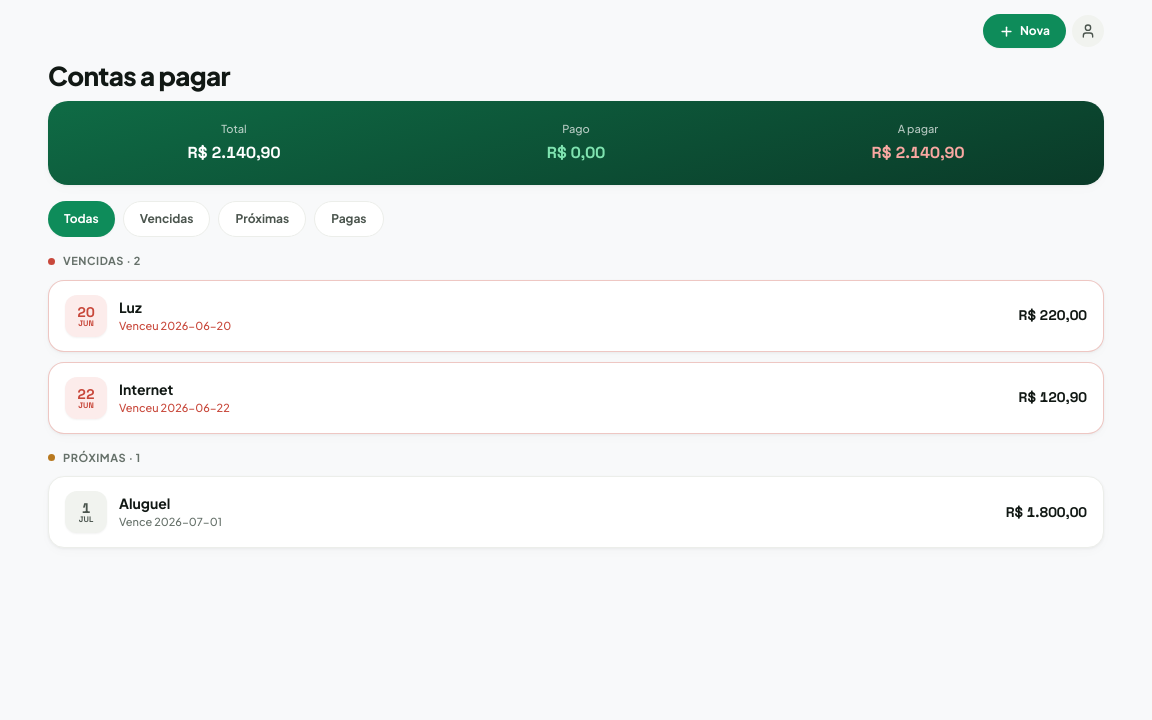
PayablesPage › with data › cancel dialog has distinct labels
This screenshot has width=1152, height=720.
# Click a card to open detail sheet
Step 1. Click the text "Luz" → (130, 307), box [119, 298, 142, 316]
(page scrolled)
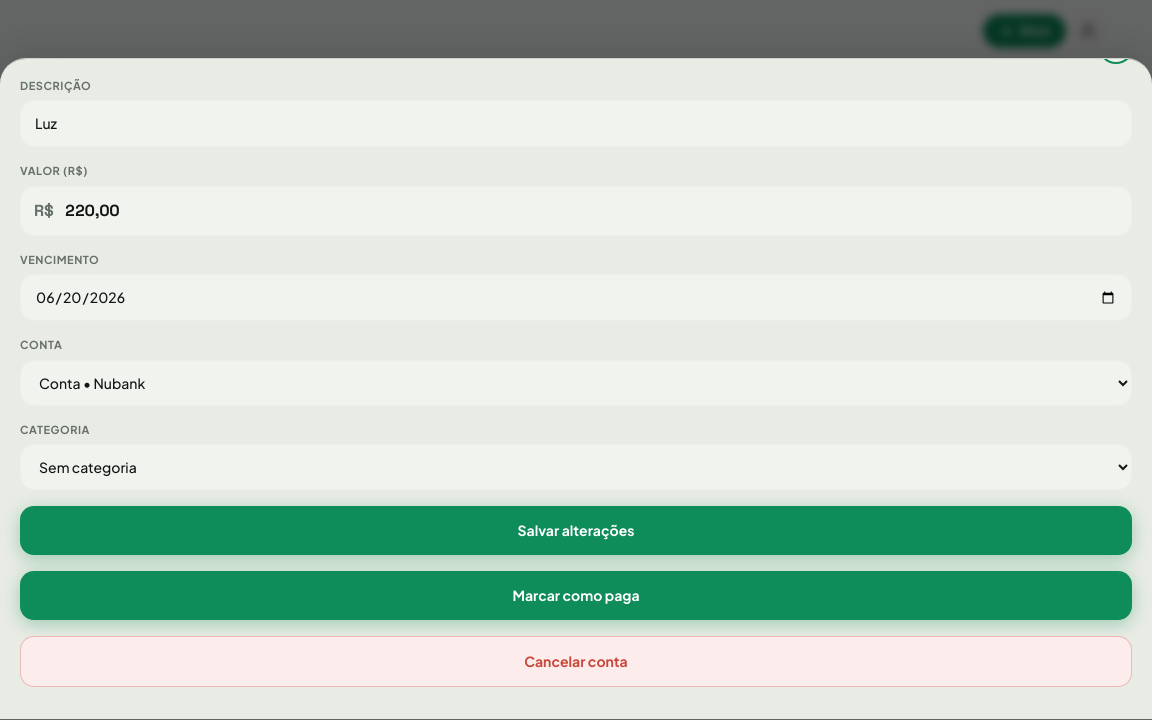
Step 2. Click the button "Cancelar conta" → (576, 662), box [20, 636, 1132, 687]
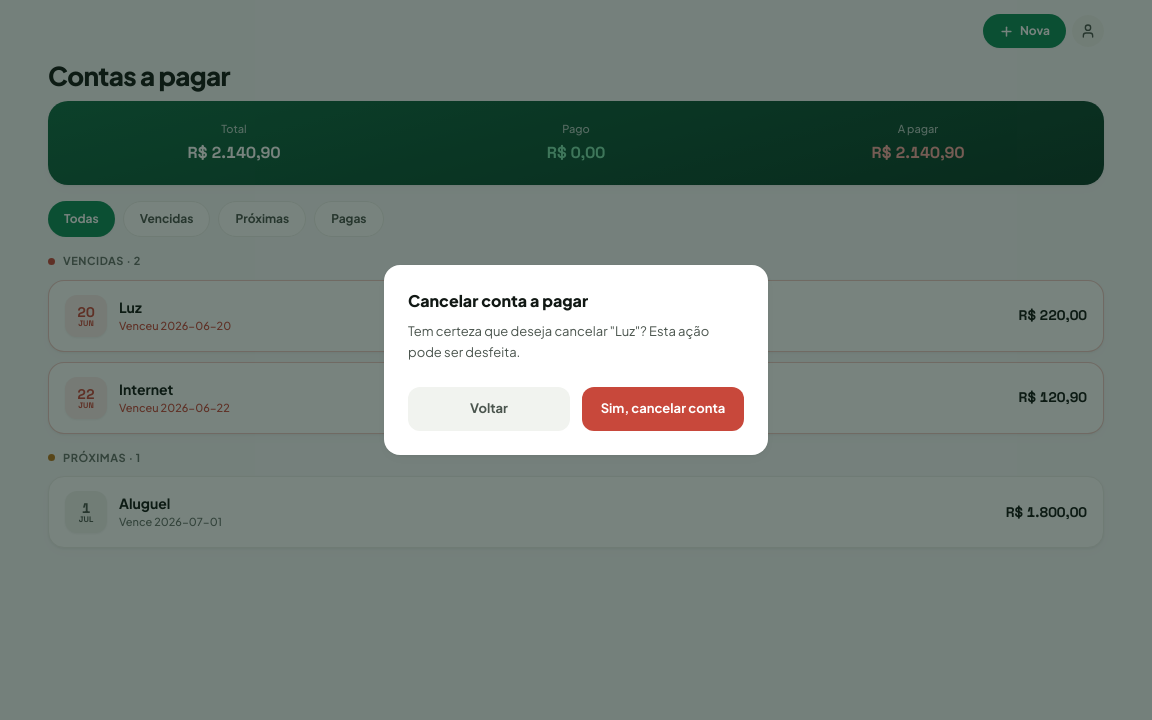
Result: the button "Sim, cancelar conta" is shown at [582, 387, 744, 431]
Result: the button "Voltar" is shown at [408, 387, 570, 431]
